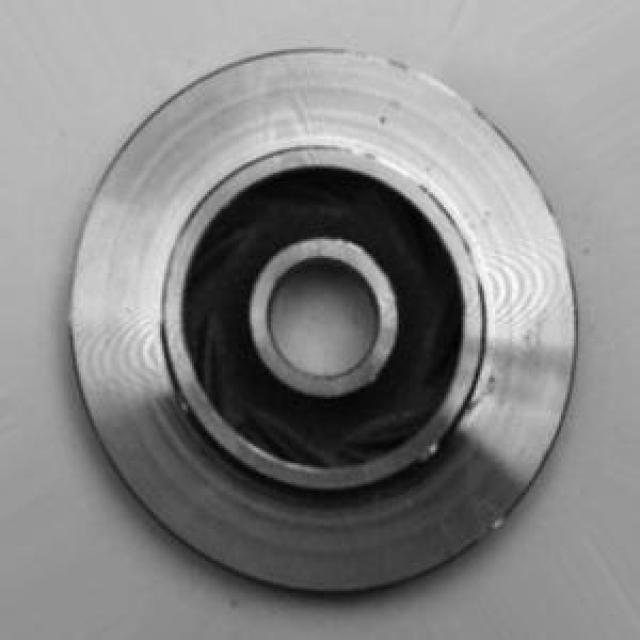Defect: (417, 434, 449, 466)
